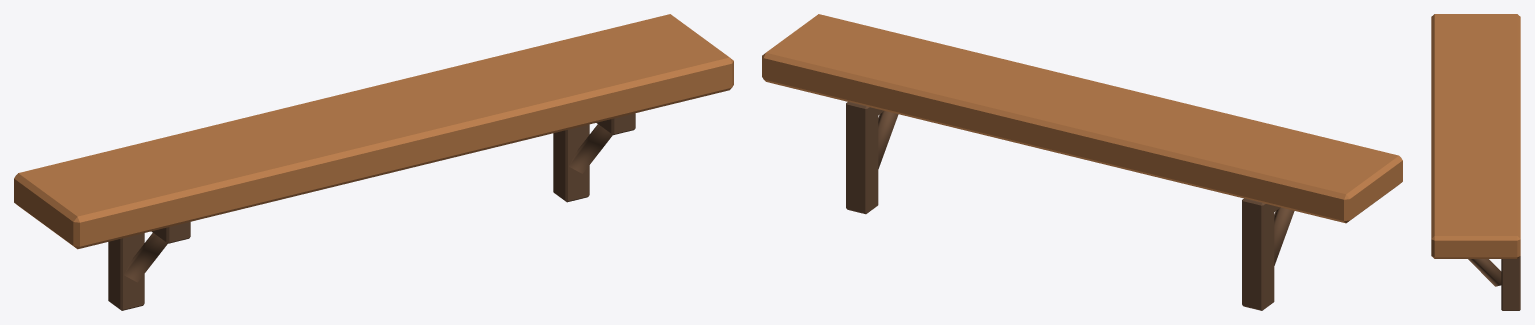
The model's file is wallShelf.glb.
The picture shows the model from 3 angles, left to right: view 1: azimuth 30°, elevation 25°; view 2: azimuth 150°, elevation 25°; view 3: azimuth 270°, elevation 25°; orthographic projection. The views are drawn at different scales.
Visible parts, largest first — view 1: wallShelf_shelf, wallShelf_vertical_-1, wallShelf_vertical_1, wallShelf_brace_1, wallShelf_brace_-1, wallShelf_horizontal_1, wallShelf_horizontal_-1; view 2: wallShelf_shelf, wallShelf_vertical_-1, wallShelf_vertical_1, wallShelf_brace_-1, wallShelf_brace_1, wallShelf_horizontal_1, wallShelf_horizontal_-1; view 3: wallShelf_shelf, wallShelf_vertical_1, wallShelf_brace_1.
Boxes of the visible parts, left/top/right/bottom form: wallShelf_shelf: left=14, top=14, right=733, bottom=249; wallShelf_vertical_-1: left=108, top=233, right=144, bottom=310; wallShelf_vertical_1: left=553, top=124, right=589, bottom=202; wallShelf_brace_1: left=569, top=124, right=612, bottom=173; wallShelf_brace_-1: left=124, top=233, right=167, bottom=282; wallShelf_horizontal_1: left=596, top=113, right=635, bottom=135; wallShelf_horizontal_-1: left=151, top=222, right=190, bottom=243; wallShelf_shelf: left=762, top=14, right=1402, bottom=223; wallShelf_vertical_-1: left=1242, top=205, right=1274, bottom=310; wallShelf_vertical_1: left=846, top=111, right=878, bottom=214; wallShelf_brace_-1: left=1274, top=207, right=1294, bottom=265; wallShelf_brace_1: left=878, top=111, right=898, bottom=168; wallShelf_horizontal_1: left=846, top=101, right=884, bottom=123; wallShelf_horizontal_-1: left=1242, top=198, right=1280, bottom=219; wallShelf_shelf: left=1431, top=14, right=1520, bottom=258; wallShelf_vertical_1: left=1501, top=256, right=1520, bottom=310; wallShelf_brace_1: left=1468, top=259, right=1501, bottom=286.
Size of the model in its own units: 1.9 by 0.42 by 0.32.
